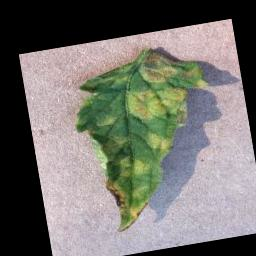Leaf_Mold: (120, 77, 191, 136), (103, 169, 154, 234), (135, 44, 179, 86), (144, 127, 177, 163), (116, 152, 152, 181), (93, 107, 120, 129)
